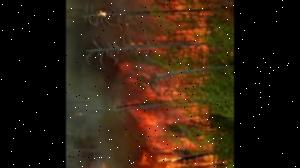fire: (96, 0, 234, 168)
